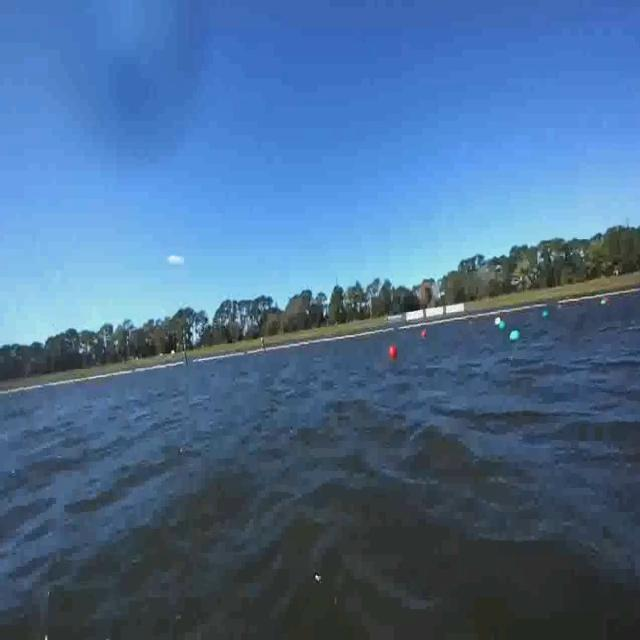green-buoy: (511, 329, 522, 341), (498, 323, 506, 333), (541, 311, 549, 318)
red-buoy: (419, 321, 430, 343), (389, 345, 397, 359)
